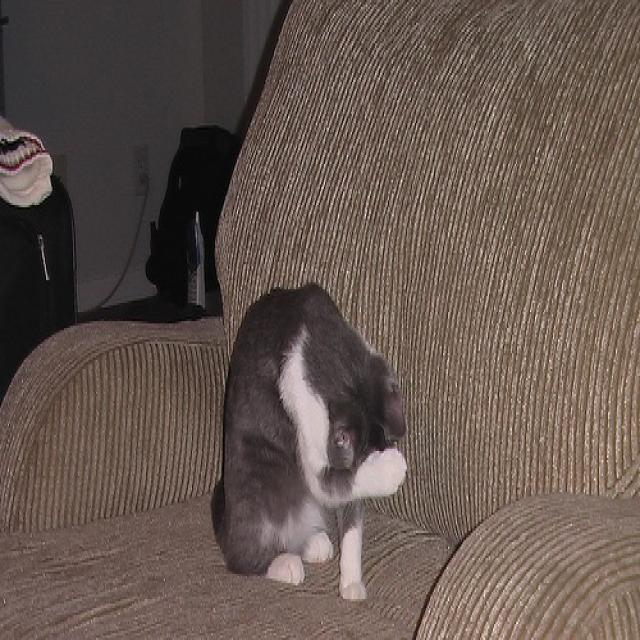cat: (210, 279, 409, 604)
chair: (1, 1, 640, 639)
